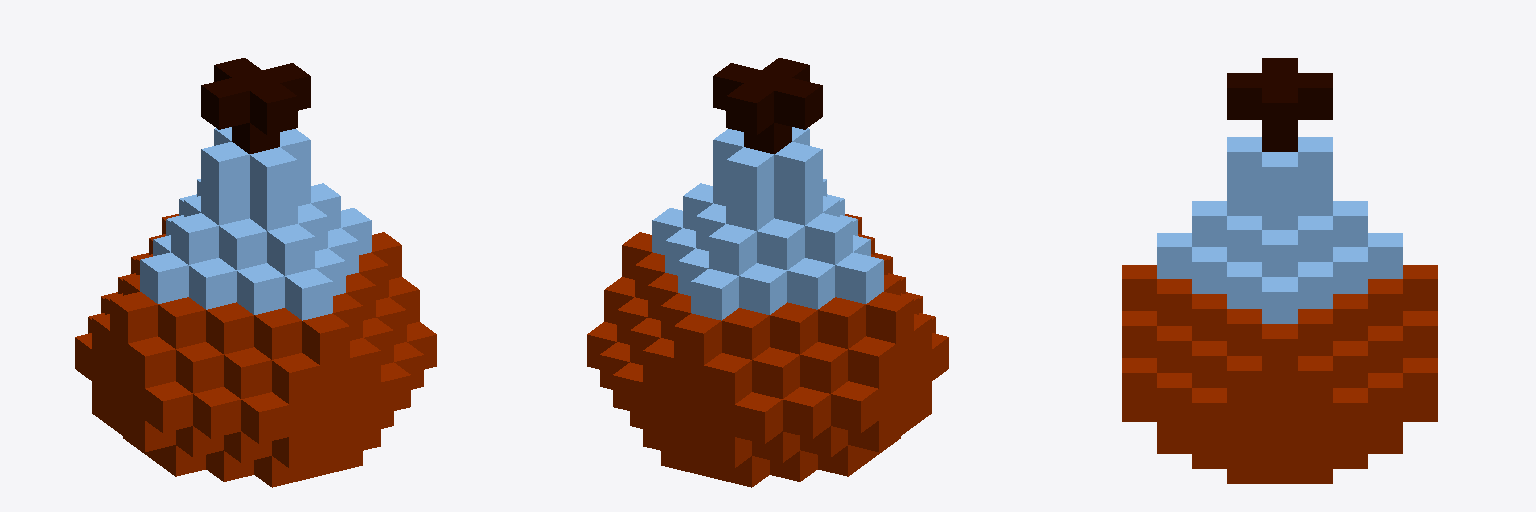
3 views of the same model, side by side, from view 1: azimuth 30°, elevation 25°; view 2: azimuth 150°, elevation 25°; view 3: azimuth 270°, elevation 25° (orthographic).
Visible parts, largest first — view 1: WitchPotionNoMATRed; view 2: WitchPotionNoMATRed; view 3: WitchPotionNoMATRed.
Boxes of the visible parts, <box> form: WitchPotionNoMATRed: <box>75,58,436,487</box>; WitchPotionNoMATRed: <box>587,58,948,487</box>; WitchPotionNoMATRed: <box>1122,58,1437,483</box>.
Size of the model in its own units: 9 by 11 by 9.
Materials: 1 (1 with a texture image).